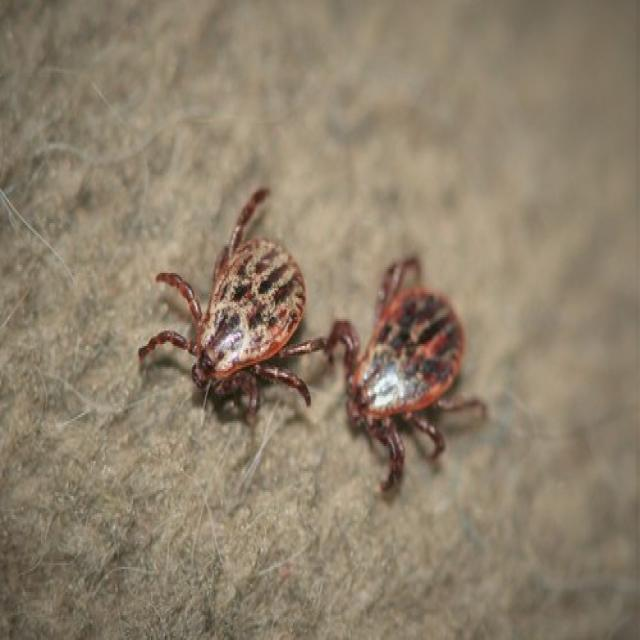Dermacentor Reticulatus-M: (138, 188, 325, 411), (334, 258, 488, 502)
